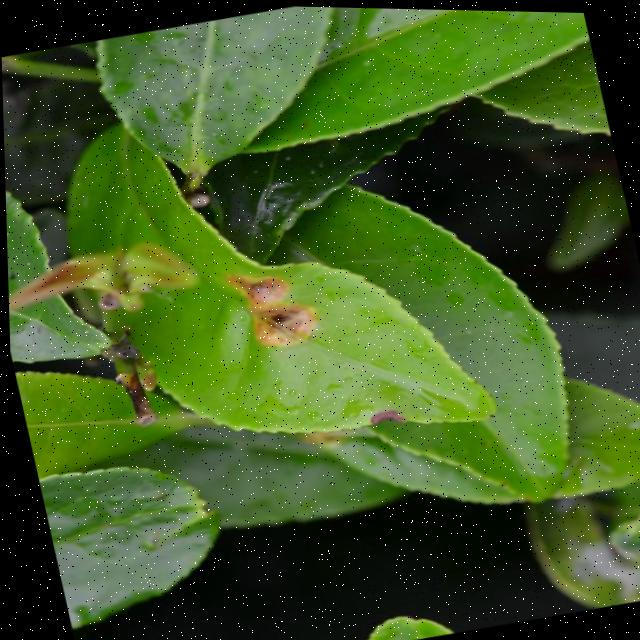Tea cake: (230, 261, 314, 352)
